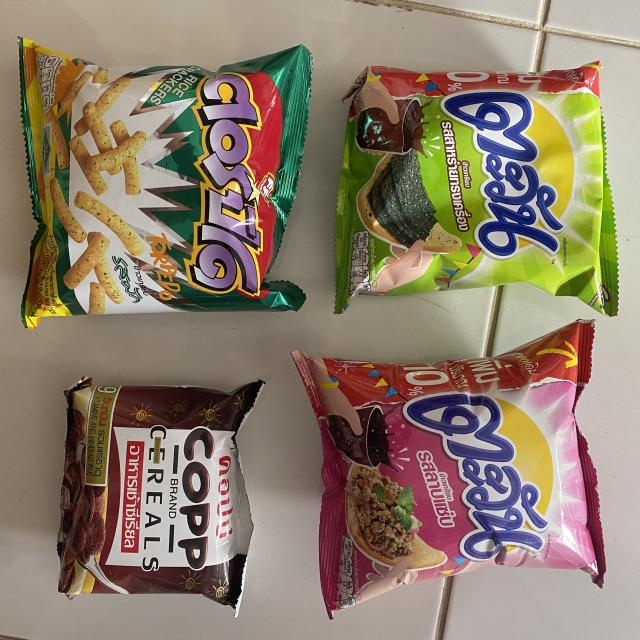plastik: (292, 320, 604, 618), (19, 38, 311, 328), (335, 61, 618, 315), (58, 378, 264, 616)
